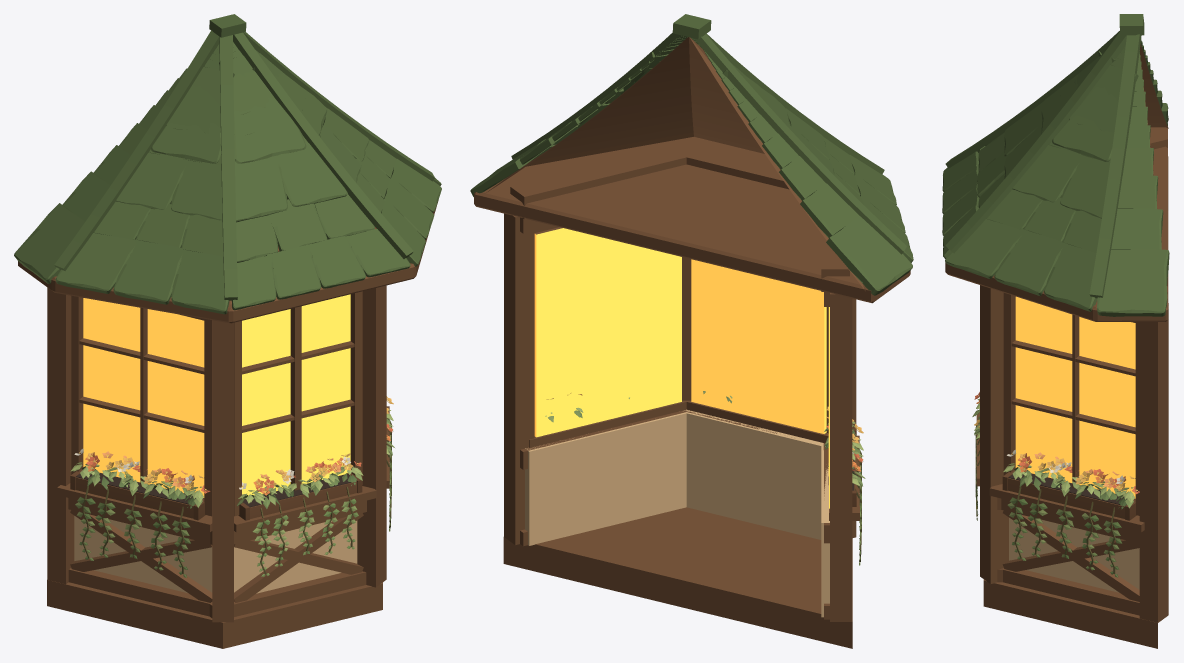
The model's file is oriel.glb.
3 views of the same model, side by side, from view 1: azimuth 30°, elevation 25°; view 2: azimuth 150°, elevation 25°; view 3: azimuth 270°, elevation 25° (orthographic). The views are drawn at different scales.
Parts seen in each view (by area): view 1: Oriel frame.065, Oriel frame.081, Oriel frame.008, Oriel flower box 3.001, Oriel frame.027, Oriel frame.009, Oriel frame.010, Oriel flower box 2.001, Plane, Oriel frame.068, Oriel frame.084, Tile face02 row04 part00 (+52 smaller); view 2: Oriel frame.097, Plane, Oriel frame.008, Oriel frame.081, Oriel frame.100, Oriel frame.084, Oriel frame.028, Hip deck 01, Oriel frame.009, Oriel frame.101, Hip deck 02, Tile face04 row00 part00 (+18 smaller); view 3: Oriel frame.097, Oriel frame.028, Oriel flower box 1.001, Oriel frame.027, Oriel frame.008, Tile face00 row00 part00, Oriel frame.100, Plane, Tile face01 row00 part01, Tile face01 row00 part02, Tile face01 row00 part00, Oriel frame.105 (+49 smaller).
Part boxes in pixels (x1,y1,x2,y2): Oriel frame.065: (83, 298, 204, 497); Oriel frame.081: (242, 294, 350, 498); Oriel frame.008: (47, 580, 382, 648); Oriel flower box 3.001: (70, 449, 210, 577); Oriel frame.027: (357, 285, 386, 587); Oriel frame.009: (47, 287, 74, 584); Oriel frame.010: (212, 320, 233, 622); Oriel flower box 2.001: (237, 453, 363, 576); Plane: (18, 200, 438, 323); Oriel frame.068: (74, 516, 212, 592); Oriel frame.084: (234, 520, 357, 593); Tile face02 row04 part00: (234, 101, 306, 163); Oriel frame.097: (534, 227, 681, 437); Plane: (474, 137, 910, 303); Oriel frame.008: (503, 507, 852, 648); Oriel frame.081: (691, 259, 826, 433); Oriel frame.100: (525, 412, 686, 545); Oriel frame.084: (683, 409, 828, 539); Oriel frame.028: (504, 213, 534, 544); Hip deck 01: (526, 37, 693, 166); Oriel frame.009: (830, 293, 852, 621); Oriel frame.101: (510, 143, 696, 219); Hip deck 02: (689, 37, 764, 153); Tile face04 row00 part00: (826, 216, 912, 295); Oriel frame.097: (1015, 296, 1135, 498); Oriel frame.028: (1139, 303, 1168, 622); Oriel flower box 1.001: (1002, 450, 1139, 577); Oriel frame.027: (980, 285, 1008, 584); Oriel frame.008: (983, 579, 1157, 648); Tile face00 row00 part00: (1097, 249, 1169, 316); Oriel frame.100: (1009, 517, 1139, 592); Plane: (945, 126, 1168, 321); Tile face01 row00 part01: (994, 228, 1063, 296); Tile face01 row00 part02: (945, 218, 1023, 278); Tile face01 row00 part00: (1044, 242, 1097, 311); Oriel frame.105: (1003, 569, 1139, 615).
Bounding box in the file's own units: 1.92 × 2.56 × 0.9617.
